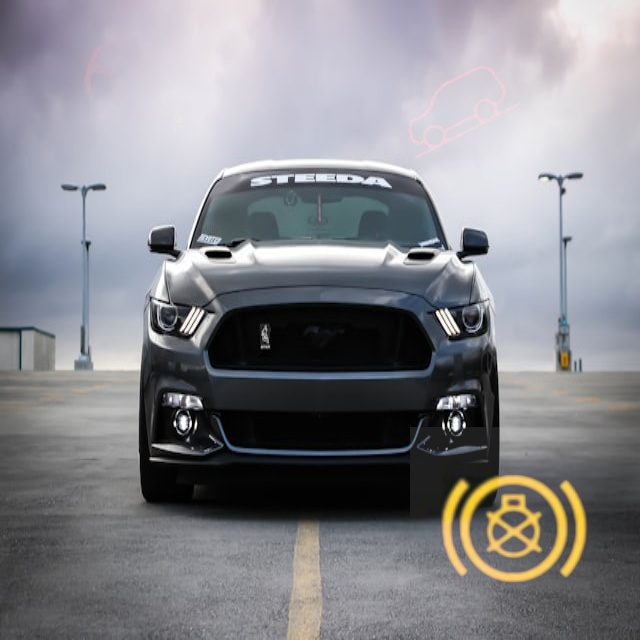symbol: (410, 427, 617, 634), (86, 35, 270, 219), (70, 0, 231, 161), (390, 40, 540, 190)
